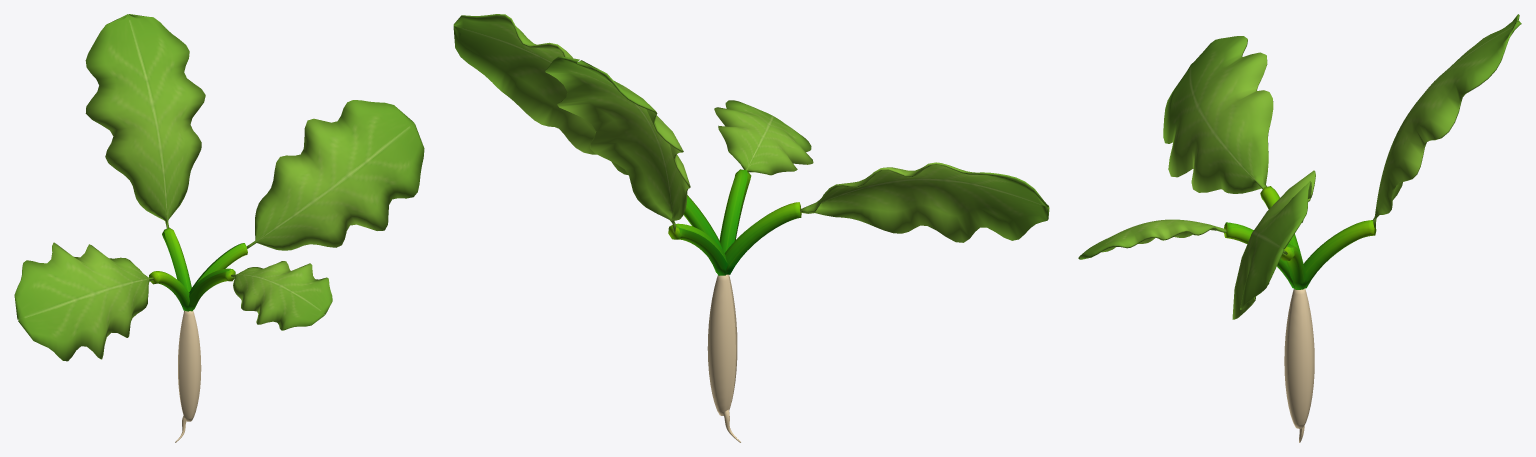
Rendered from NP_Radish_Young.fbx.
3 views of the same model, side by side, from view 1: azimuth 30°, elevation 25°; view 2: azimuth 150°, elevation 25°; view 3: azimuth 270°, elevation 25° (orthographic). The views are drawn at different scales.
Visible parts, largest first — view 1: NP_Radish_Young; view 2: NP_Radish_Young; view 3: NP_Radish_Young.
Boxes of the visible parts, x1,y1,x2,y2 form: NP_Radish_Young: (14, 14, 424, 442); NP_Radish_Young: (453, 14, 1049, 442); NP_Radish_Young: (1078, 14, 1521, 442).
Size of the model in its own units: 58.36 by 45.32 by 40.83.
